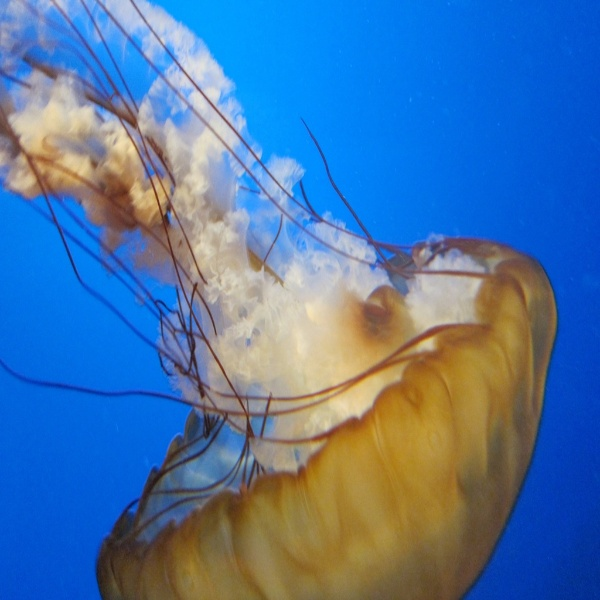Jellyfish: (0, 0, 557, 599)
